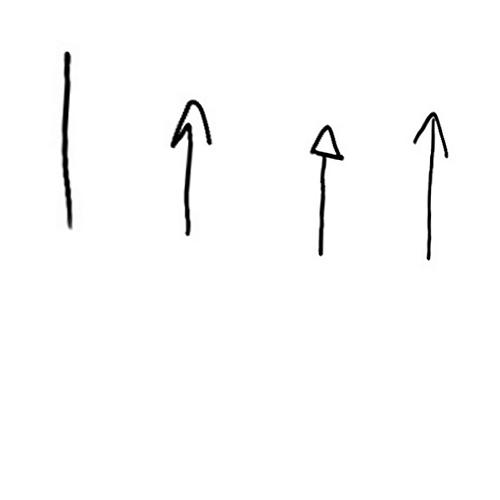arrow: (167, 92, 213, 238), (415, 107, 449, 263), (57, 48, 84, 229), (310, 123, 342, 257)
